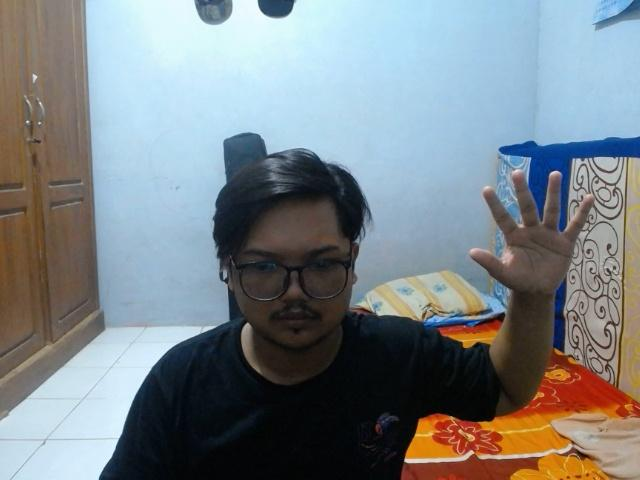Release: (464, 156, 601, 301)
